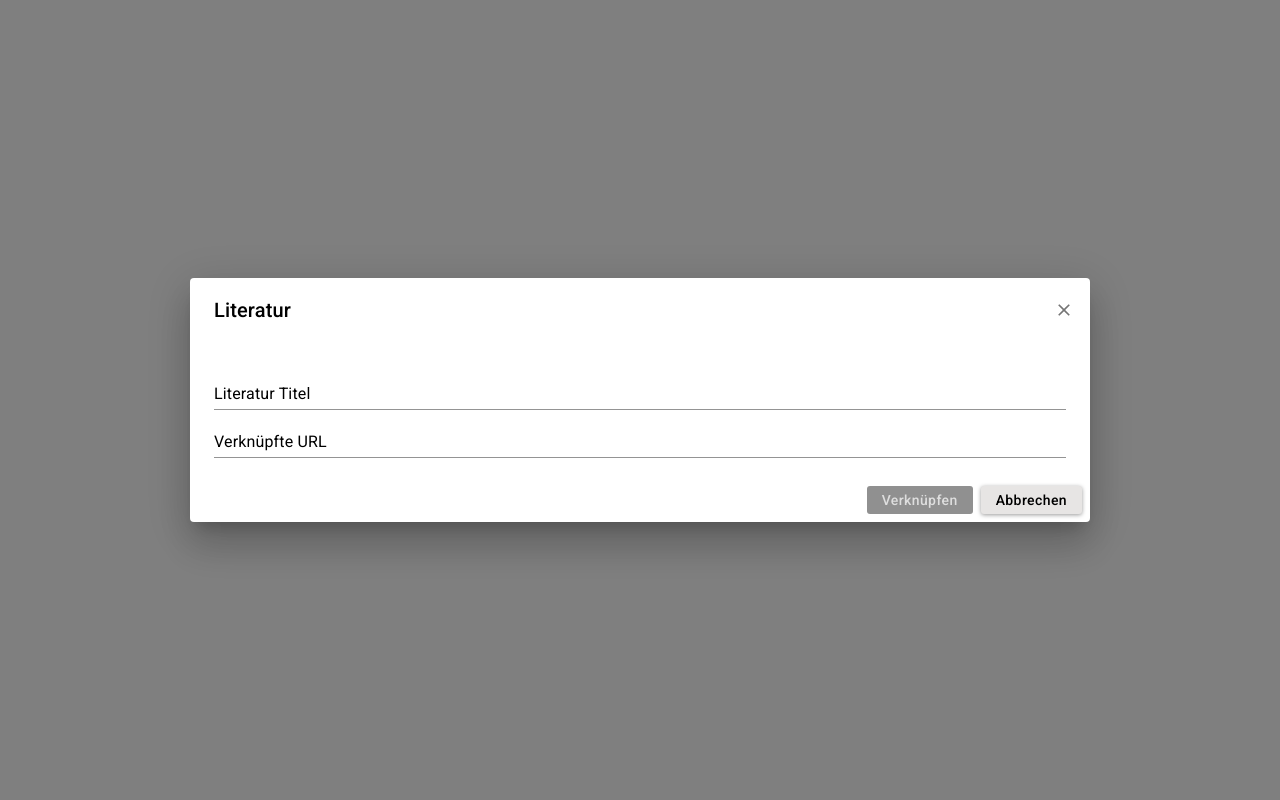
Test: LiteraturDialog › in edit mode › shows options from literatur service
Step 1. Click the dropdown labelled "Literatur Titel" → [640, 394], box [214,378,1066,409]
(page scrolled)
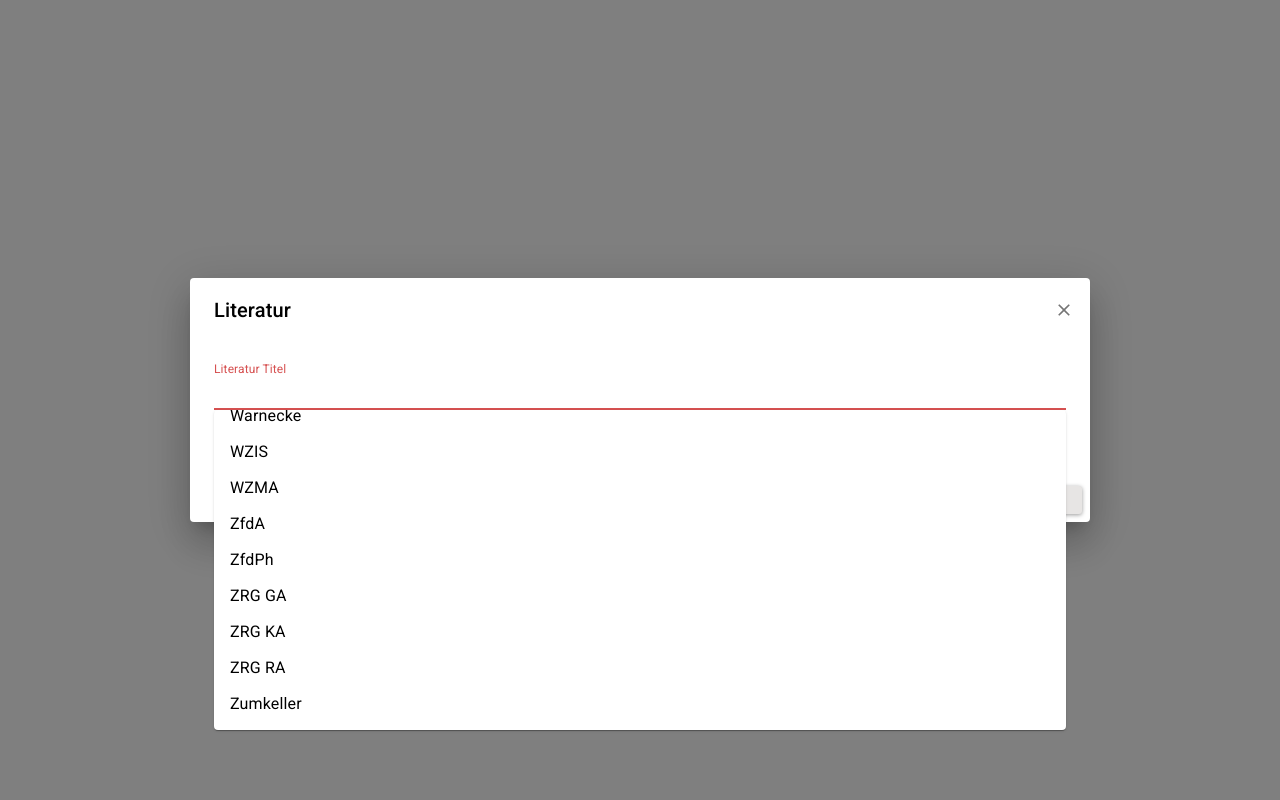
Check: the option "Warnecke" is shown, box [230,410,301,425]
Check: the option "WZIS" is shown, box [230,442,268,461]
Check: the option "WZMA" is shown, box [230,478,279,497]
